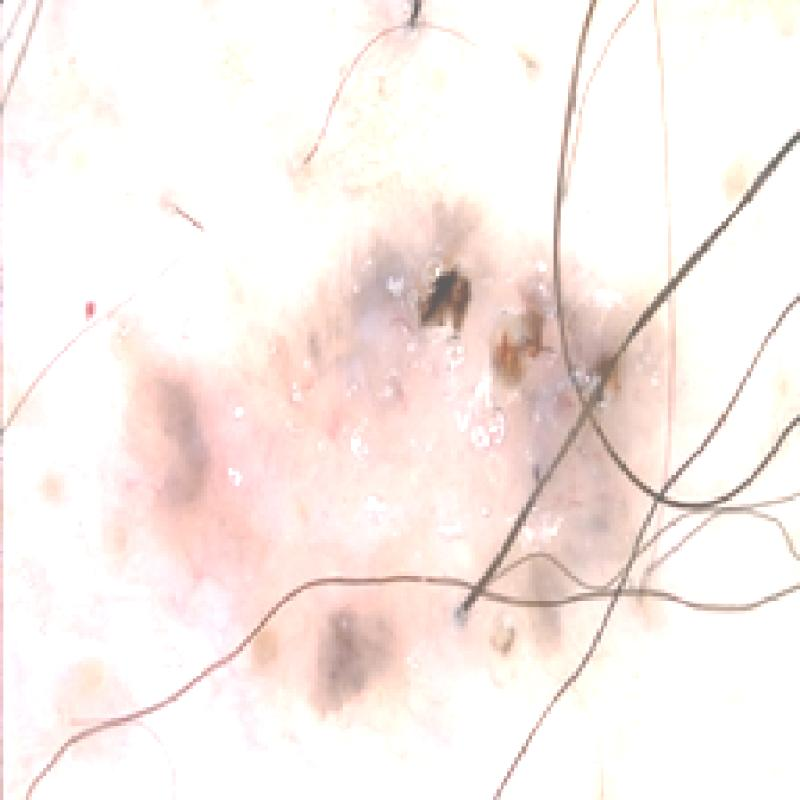malignant: (106, 187, 693, 723)
